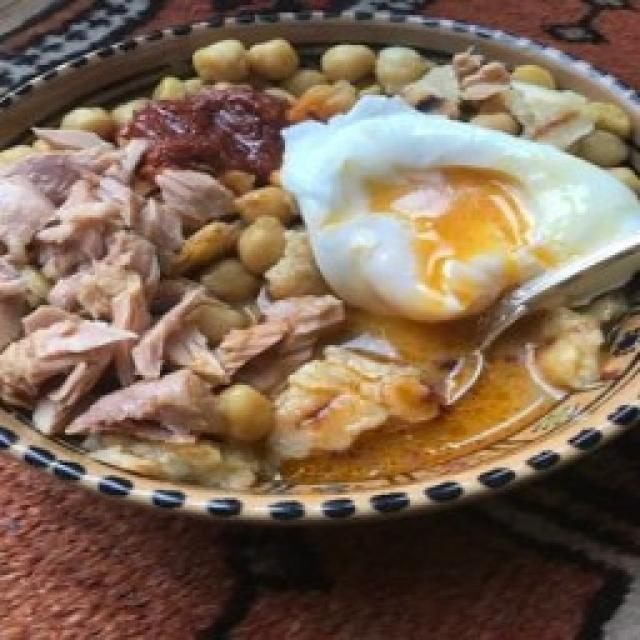Lablabi: (0, 40, 640, 519)
